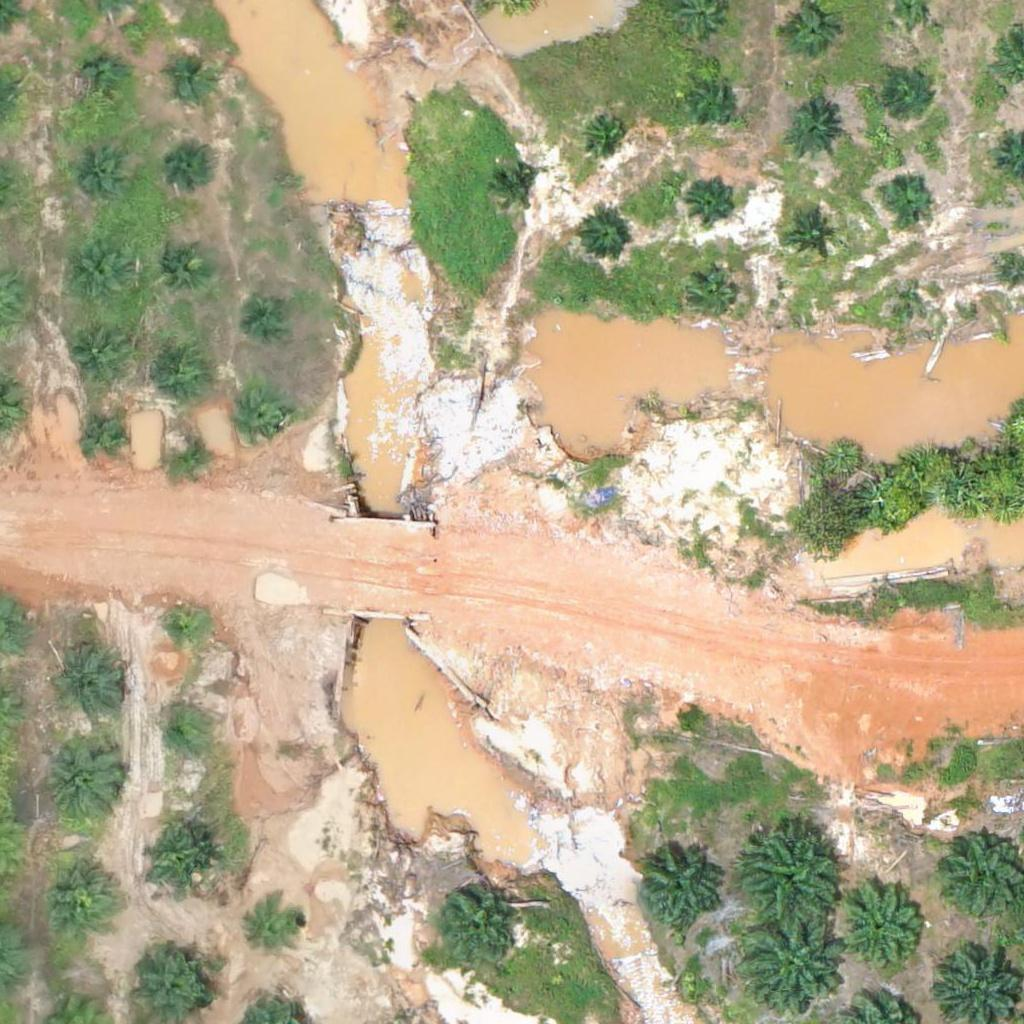Kelapa_Sawit: (744, 915, 844, 1016), (740, 822, 840, 923), (836, 887, 924, 975), (635, 847, 723, 935), (434, 888, 521, 976), (49, 643, 124, 719), (140, 824, 215, 900), (49, 740, 124, 816), (41, 858, 116, 933), (68, 146, 131, 209), (66, 243, 129, 306), (153, 339, 216, 402), (67, 324, 130, 387), (782, 102, 845, 165), (153, 234, 215, 297), (247, 896, 309, 959), (80, 409, 130, 460), (166, 430, 216, 481), (880, 169, 930, 220), (884, 70, 934, 121), (782, 7, 832, 58), (687, 75, 737, 126), (687, 173, 737, 224), (787, 212, 837, 263), (169, 145, 219, 195), (79, 56, 129, 106), (165, 55, 215, 105), (578, 213, 628, 263), (237, 396, 287, 446), (247, 291, 297, 341), (159, 604, 209, 654), (155, 711, 205, 761), (689, 274, 739, 324), (581, 109, 631, 159), (490, 165, 540, 215), (906, 289, 931, 314)
